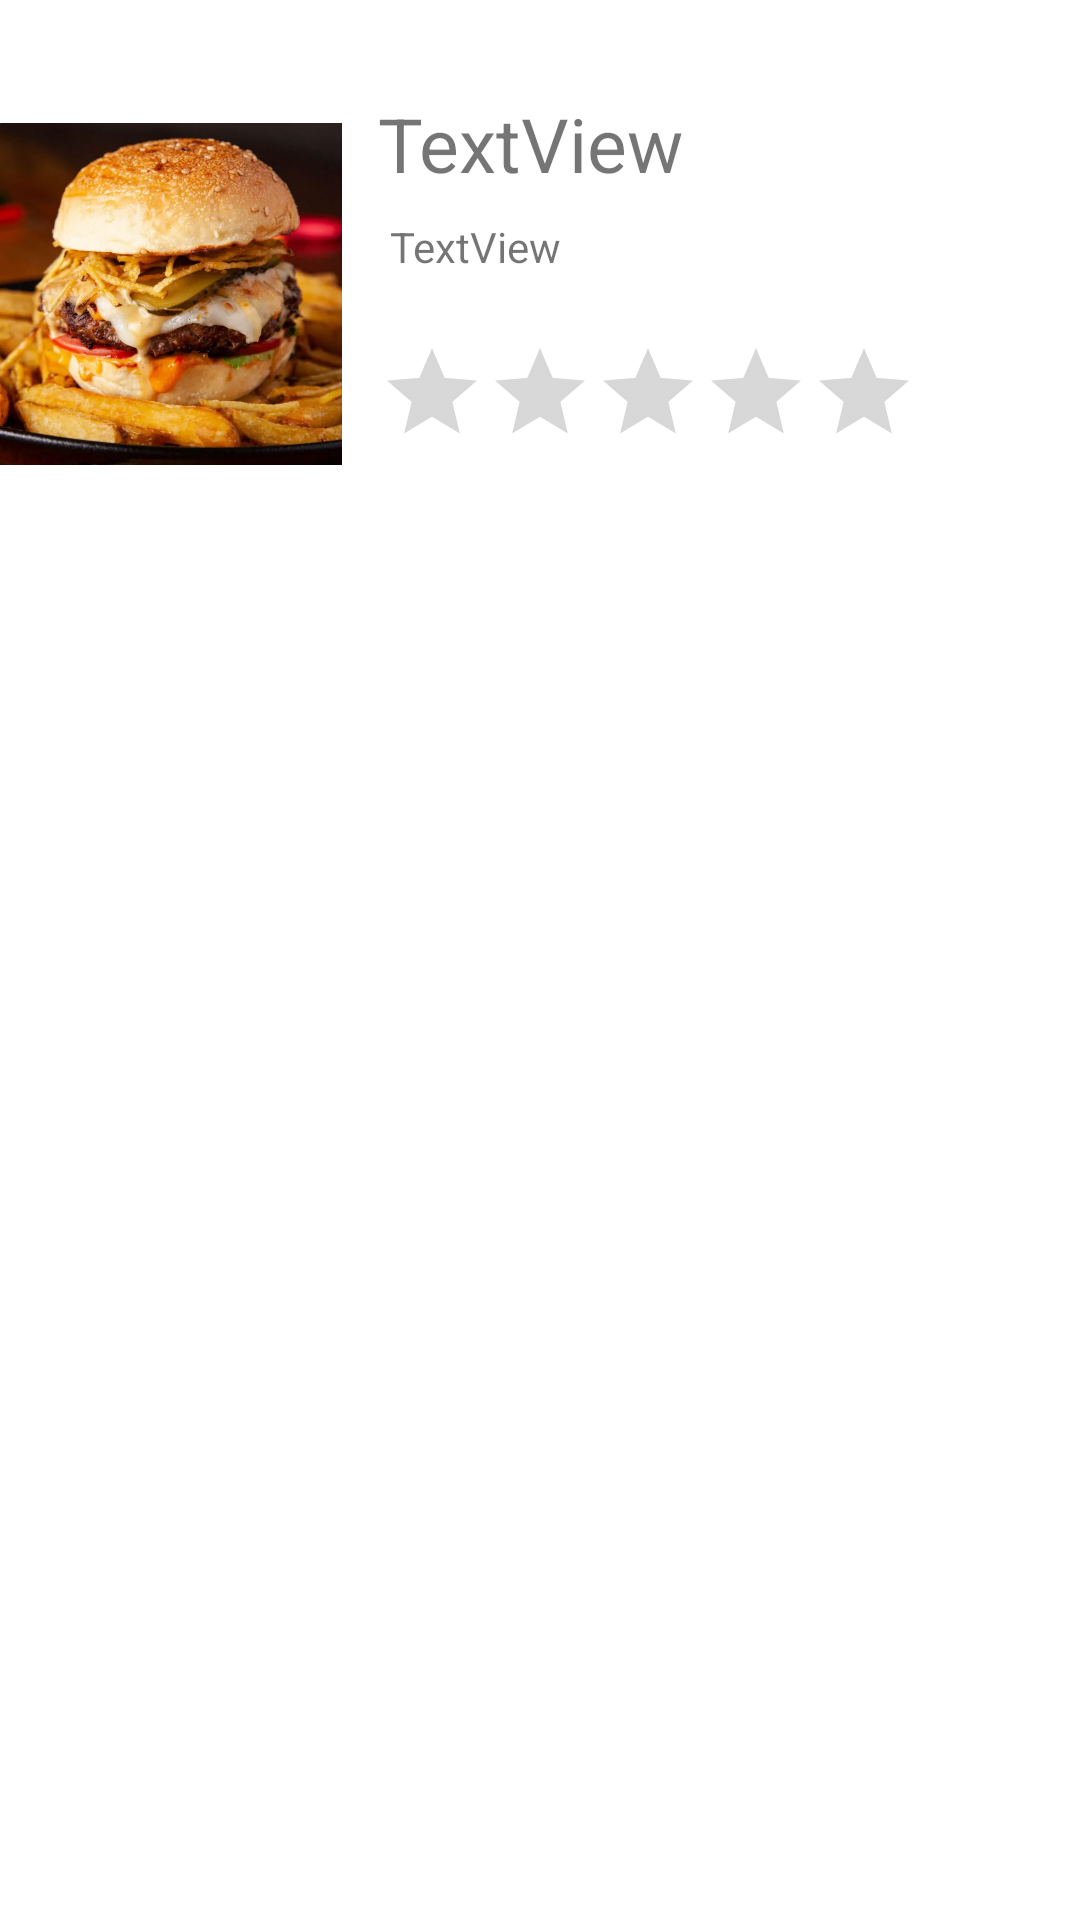

Point at icon controls on the screen. Image size 1080 × 1920, points as (x,y).
sandwich: (171,294)
